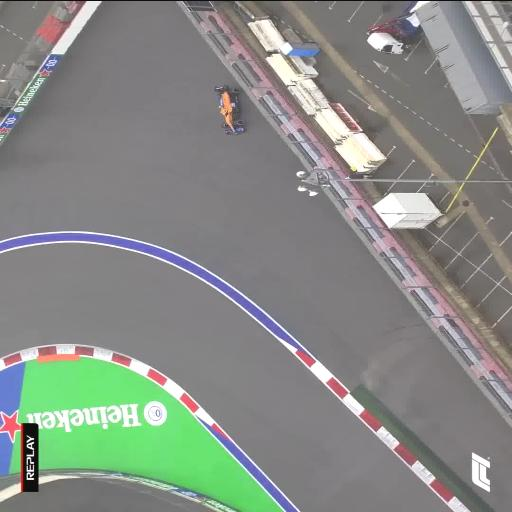f1_car: (213, 84, 245, 134)
